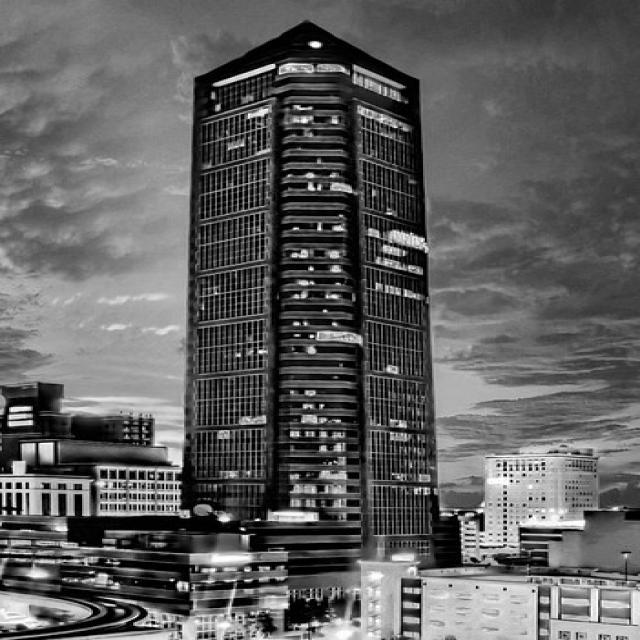Normal_building: (173, 17, 445, 568)
